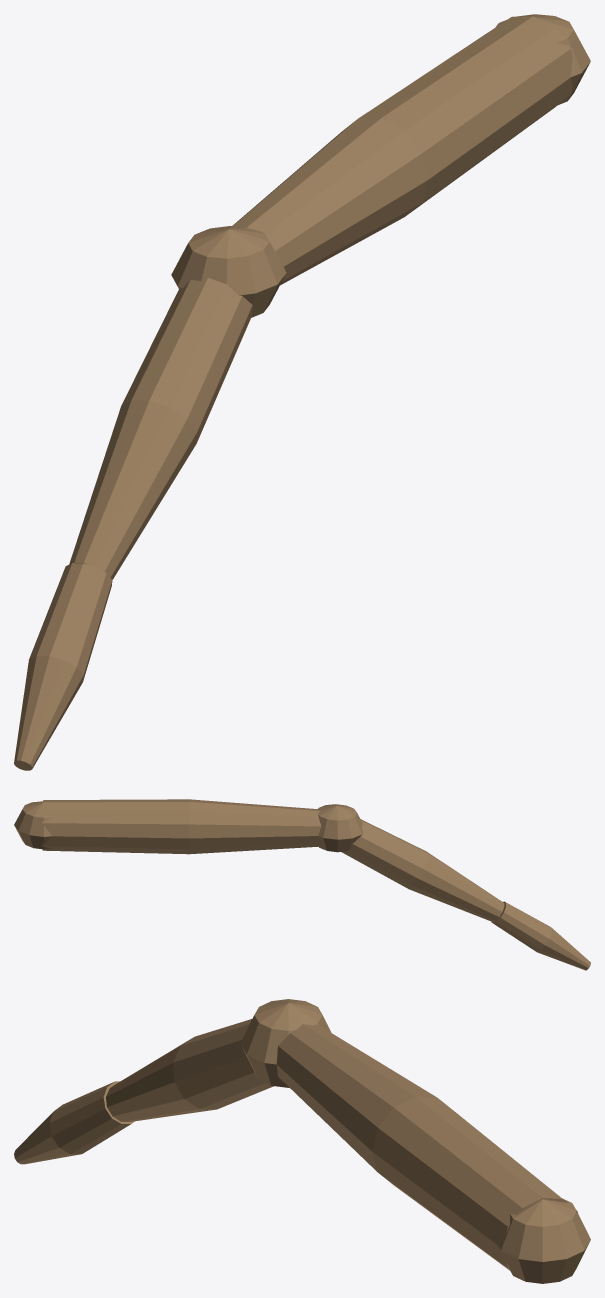
The model's file is scorpion_leg_l4_original_01.glb.
3 views of the same model, one above another, from view 1: azimuth 30°, elevation 25°; view 2: azimuth 150°, elevation 25°; view 3: azimuth 270°, elevation 25° (orthographic). The views are drawn at different scales.
Visible parts, largest first — view 1: S0_LLeg4Segment1, S0_LLeg4Segment2, S0_LLeg4Segment3, S0_LLeg4Joint1, S0_LLeg4Joint0; view 2: S0_LLeg4Segment1, S0_LLeg4Segment2, S0_LLeg4Segment3, S0_LLeg4Joint1, S0_LLeg4Joint0; view 3: S0_LLeg4Segment1, S0_LLeg4Segment2, S0_LLeg4Joint0, S0_LLeg4Segment3, S0_LLeg4Joint1.
Part boxes in pixels (<box>): S0_LLeg4Segment1: <box>232,16,572,285</box>; S0_LLeg4Segment2: <box>69,278,252,579</box>; S0_LLeg4Segment3: <box>14,563,112,770</box>; S0_LLeg4Joint1: <box>171,226,286,317</box>; S0_LLeg4Joint0: <box>495,14,590,105</box>; S0_LLeg4Segment1: <box>42,799,321,854</box>; S0_LLeg4Segment2: <box>341,819,504,922</box>; S0_LLeg4Segment3: <box>491,901,590,970</box>; S0_LLeg4Joint1: <box>317,804,362,852</box>; S0_LLeg4Joint0: <box>14,801,51,849</box>; S0_LLeg4Segment1: <box>276,1024,577,1270</box>; S0_LLeg4Segment2: <box>106,1019,273,1121</box>; S0_LLeg4Joint0: <box>497,1198,590,1283</box>; S0_LLeg4Segment3: <box>14,1081,134,1164</box>; S0_LLeg4Joint1: <box>240,999,331,1087</box>.
Bounding box in the file's own units: 0.7024 × 0.2777 × 0.454.
